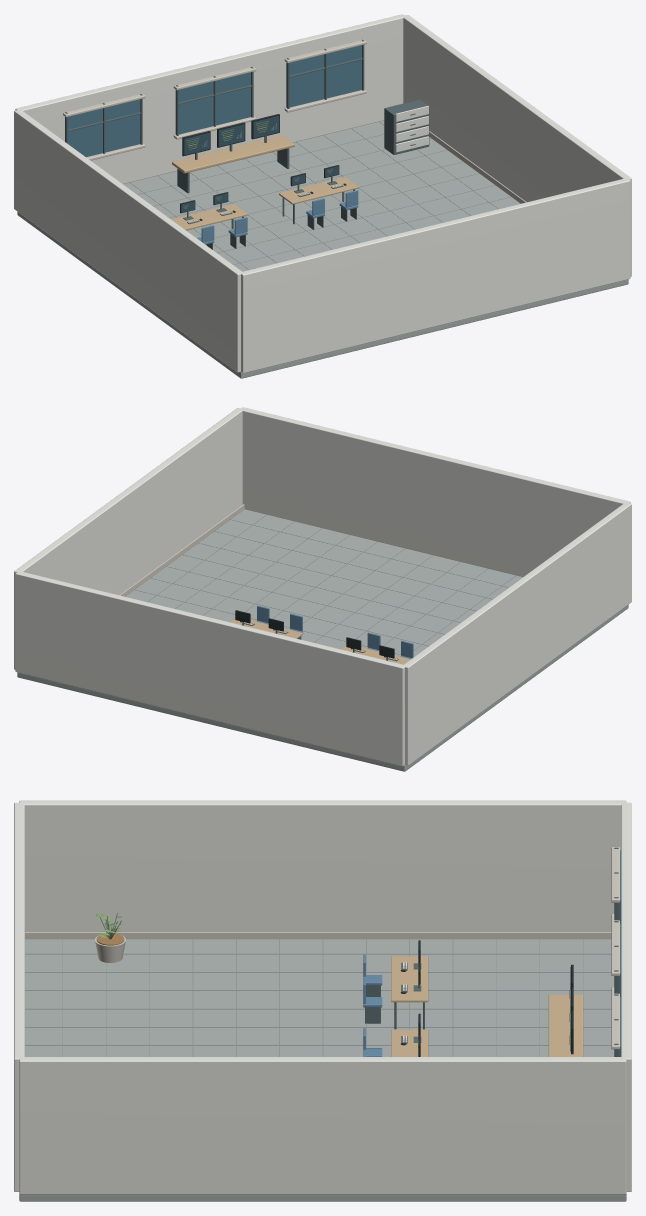
The model's file is cyber.glb.
3 views of the same model, one above another, from view 1: azimuth 30°, elevation 25°; view 2: azimuth 150°, elevation 25°; view 3: azimuth 270°, elevation 25° (orthographic). The views are drawn at different scales.
Visible parts, largest first — view 1: white, paving, glass, metal, oak, stone, grout, screen, blue, black; view 2: white, paving, grout, blue, stone, oak, black; view 3: white, paving, stone, grout, oak, metal, blue, black.
Part boxes in pixels (left/top/right/bottom): white: left=14, top=14, right=631, bottom=373; paving: left=17, top=120, right=628, bottom=378; glass: left=68, top=45, right=361, bottom=157; metal: left=65, top=39, right=429, bottom=249; oak: left=171, top=135, right=358, bottom=230; stone: left=63, top=39, right=526, bottom=203; grout: left=130, top=121, right=510, bottom=269; screen: left=181, top=116, right=338, bottom=212; blue: left=197, top=123, right=358, bottom=244; black: left=180, top=114, right=346, bottom=220; white: left=14, top=407, right=631, bottom=766; paving: left=17, top=509, right=628, bottom=771; grout: left=135, top=514, right=515, bottom=654; blue: left=256, top=605, right=413, bottom=658; stone: left=119, top=504, right=244, bottom=596; oak: left=230, top=618, right=410, bottom=664; black: left=235, top=610, right=394, bottom=658; white: left=14, top=800, right=631, bottom=1194; paving: left=19, top=939, right=626, bottom=1201; stone: left=25, top=847, right=619, bottom=1049; grout: left=25, top=939, right=611, bottom=1056; oak: left=391, top=956, right=583, bottom=1056; metal: left=365, top=847, right=618, bottom=1056; blue: left=363, top=954, right=569, bottom=1056; black: left=400, top=940, right=573, bottom=1056.
Size of the model in its own units: 14.25 by 3.64 by 14.25.
